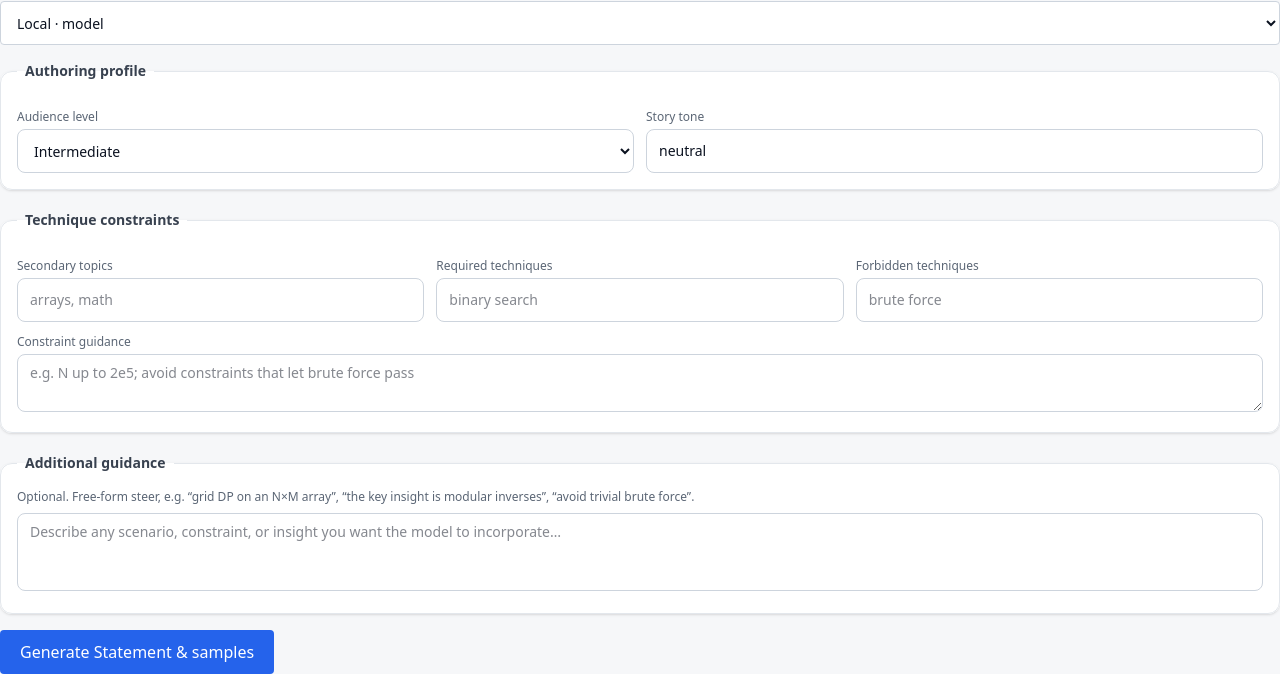
Test: ready proposal exposes selective apply controls
The width and height of the screenshot is (1280, 674).
(page scrolled)
Click the button "Generate Statement & samples" at (137, 652), box [0,630,274,673]
(page scrolled)
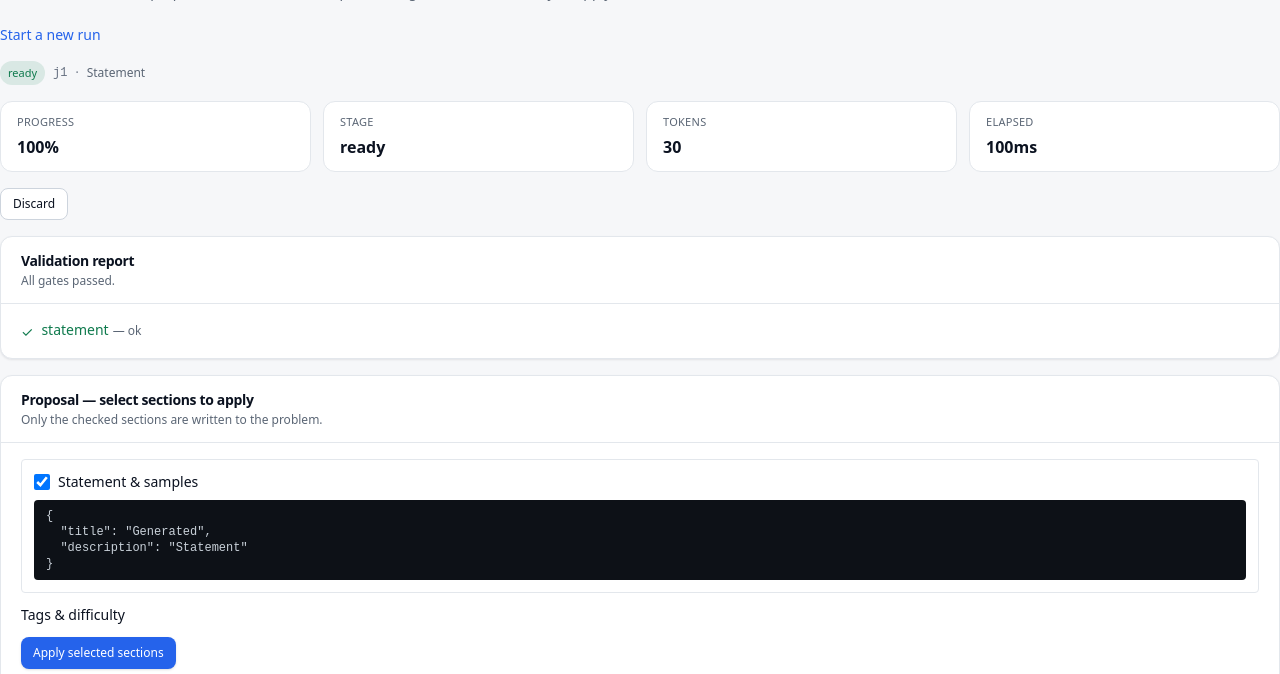
Result: the button "Apply selected sections" is shown at [21,636,176,668]
Result: the text "— ok" is shown at [113,322,142,338]
